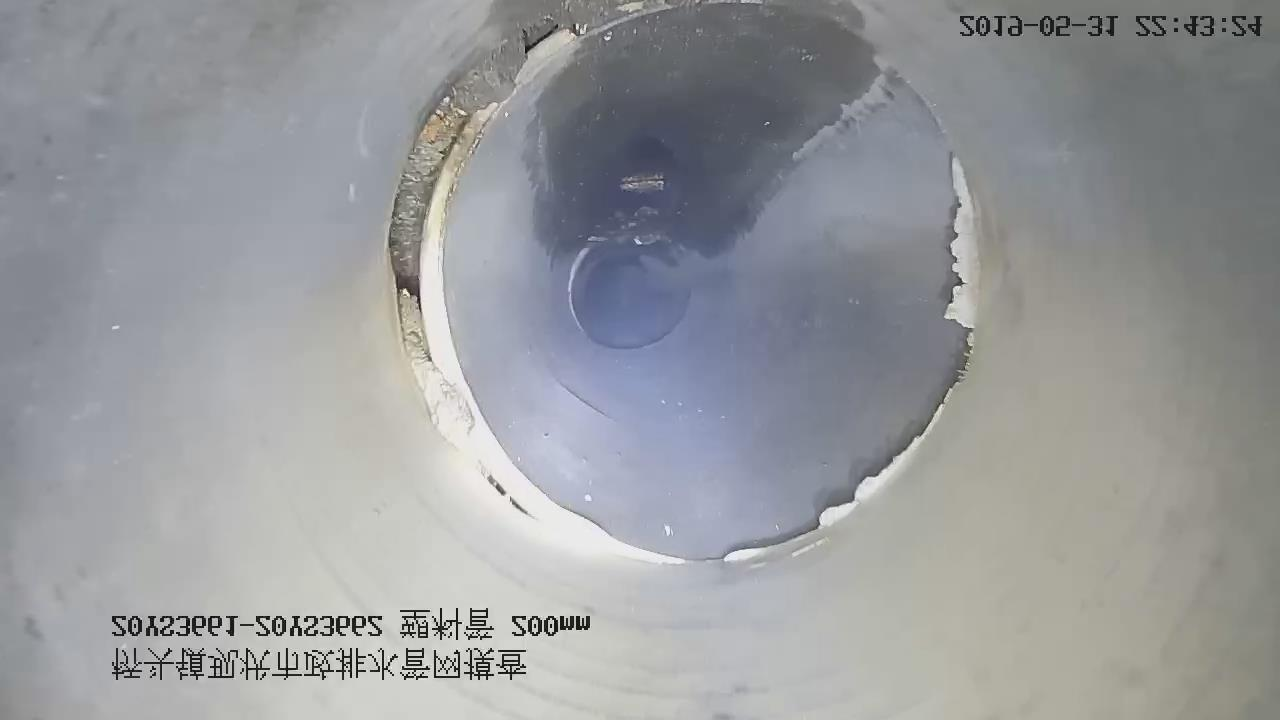CKTJ: (387, 26, 694, 563), (568, 238, 605, 330)
